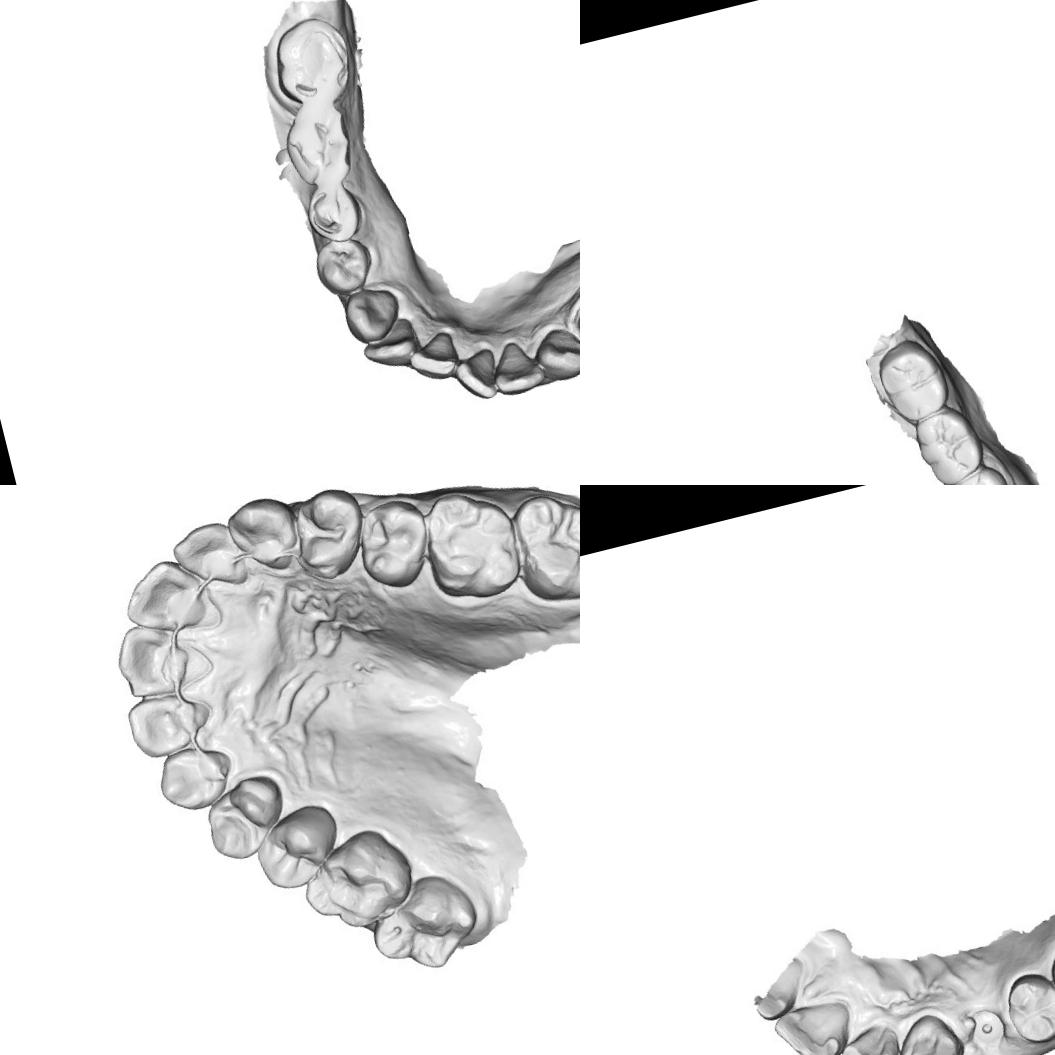canine: (222, 488, 306, 576), (151, 736, 239, 818), (887, 1010, 970, 1055), (344, 280, 403, 342), (532, 316, 580, 382)
crown: (566, 285, 580, 350)
implant: (964, 1000, 1008, 1054)
incisor: (115, 550, 215, 642), (111, 615, 210, 703), (120, 682, 212, 762), (168, 513, 252, 599), (772, 989, 864, 1055), (358, 312, 424, 377), (487, 336, 550, 398), (408, 330, 464, 391), (453, 344, 506, 404), (840, 1022, 906, 1055)
molar: (292, 822, 425, 946), (358, 865, 488, 986), (412, 485, 533, 609), (504, 485, 580, 613), (272, 13, 359, 109), (872, 332, 958, 426), (278, 98, 358, 188), (909, 401, 992, 485)
premolar: (241, 803, 348, 898), (196, 766, 296, 867), (286, 485, 367, 578), (353, 494, 433, 586), (314, 229, 379, 296), (1001, 972, 1055, 1047), (304, 179, 366, 244), (947, 462, 1018, 485)
